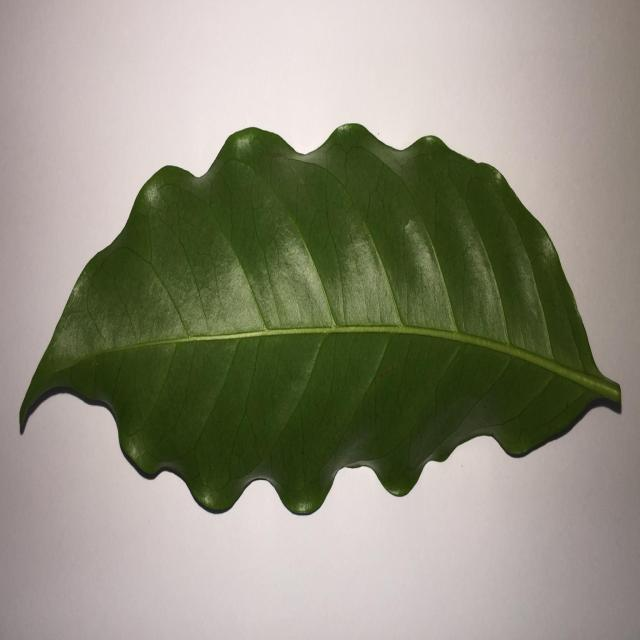Sanas: (16, 124, 623, 519)
